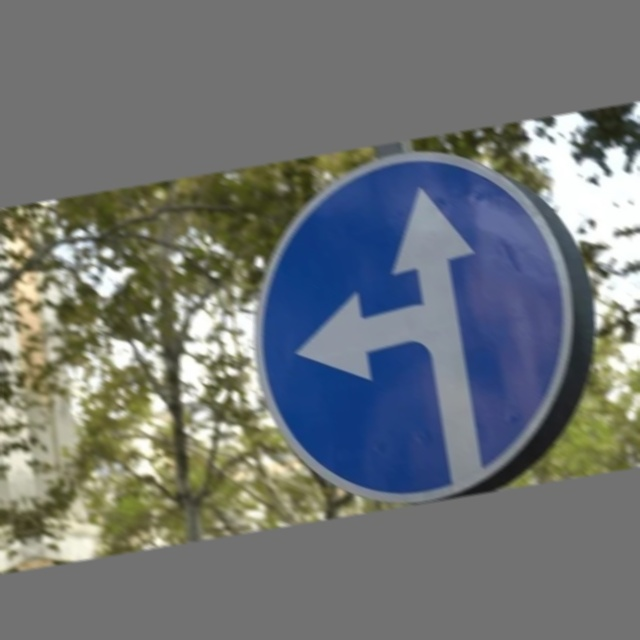Compulsory_Ahead_or_Turn_Left: (228, 128, 619, 515)
